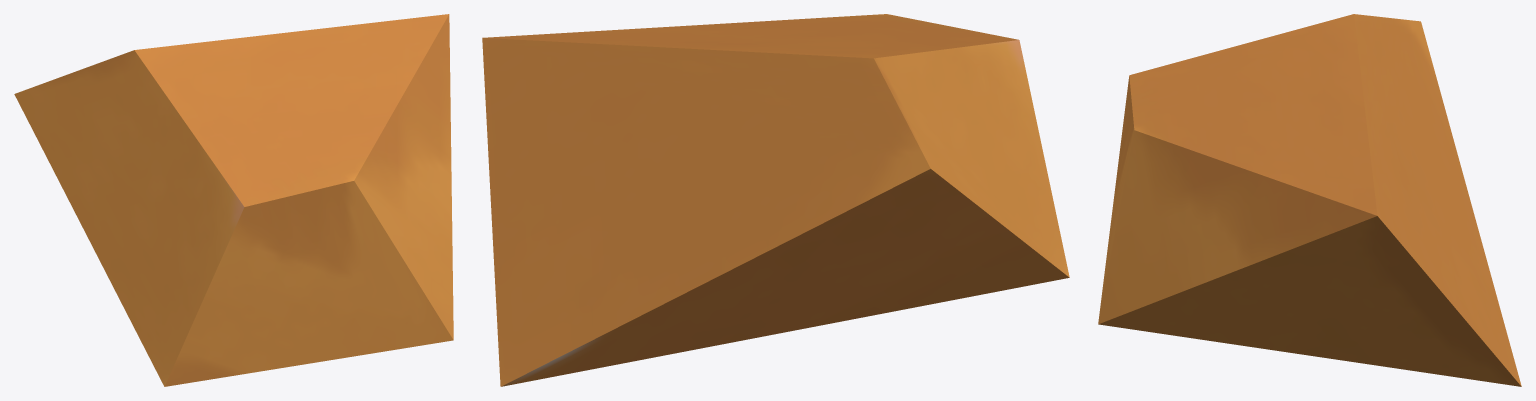
Rendered from desert-stone-small2.fbx.
The picture shows the model from 3 angles, left to right: view 1: azimuth 30°, elevation 25°; view 2: azimuth 150°, elevation 25°; view 3: azimuth 270°, elevation 25°; orthographic projection. The views are drawn at different scales.
Visible parts, largest first — view 1: pCube21; view 2: pCube21; view 3: pCube21.
Part boxes in pixels (left/top/right/bottom): pCube21: left=14, top=14, right=453, bottom=386; pCube21: left=482, top=14, right=1069, bottom=386; pCube21: left=1098, top=14, right=1521, bottom=386.
Size of the model in its own units: 1.11 by 0.7136 by 1.04.
Materials: 1 (1 with a texture image).
